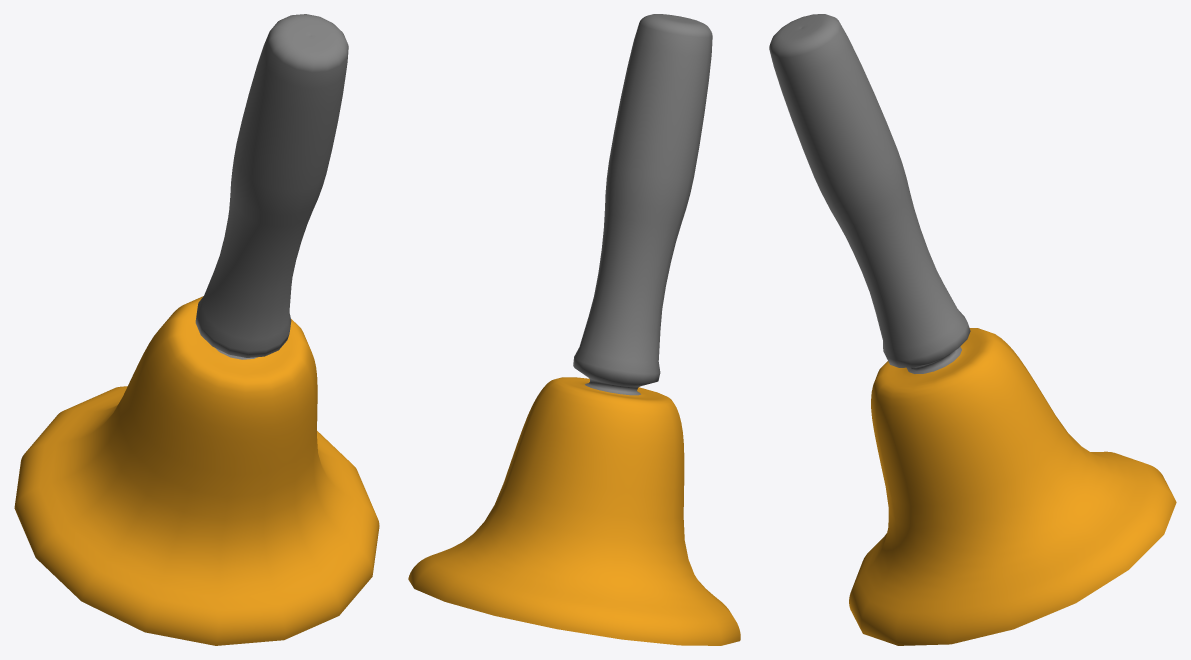
File: Bell.FBX
3 renders of one model, left to right at view 1: azimuth 30°, elevation 25°; view 2: azimuth 150°, elevation 25°; view 3: azimuth 270°, elevation 25°, orthographic. The views are drawn at different scales.
Parts seen in each view (by area): view 1: Line003, Group001; view 2: Line003, Group001; view 3: Line003, Group001.
Boxes of the visible parts, x1=… form: Line003: x1=14, y1=296, x2=379, y2=645; Group001: x1=195, y1=14, x2=348, y2=359; Line003: x1=408, y1=377, x2=740, y2=645; Group001: x1=573, y1=14, x2=712, y2=395; Line003: x1=849, y1=328, x2=1176, y2=645; Group001: x1=769, y1=14, x2=970, y2=373.
Size of the model in its own units: 38 by 71.22 by 44.6.
